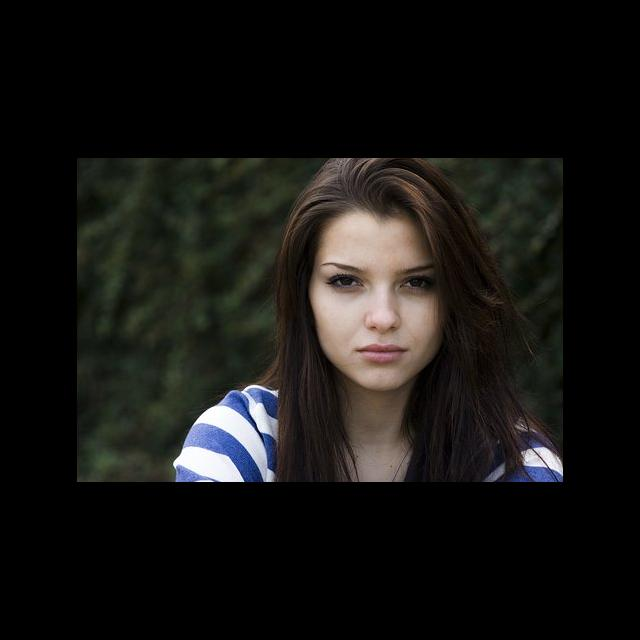female: (238, 158, 526, 388)
